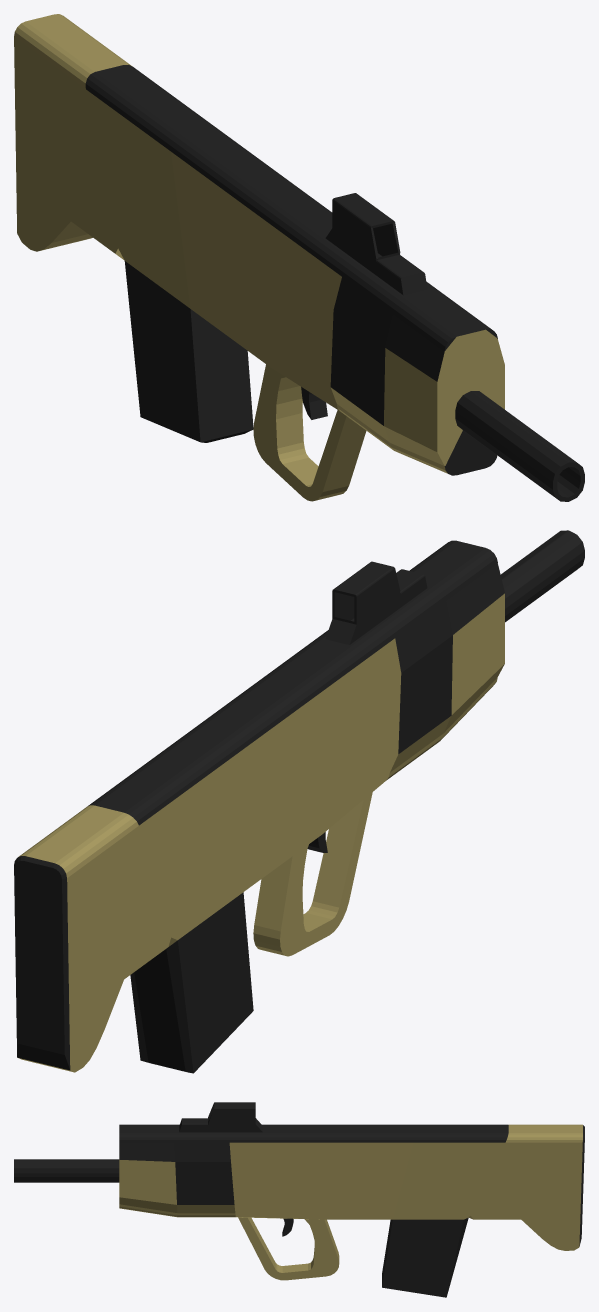
File: BullpopRifle.fbx
3 views of the same model, one above another, from view 1: azimuth 30°, elevation 25°; view 2: azimuth 150°, elevation 25°; view 3: azimuth 270°, elevation 25° (orthographic). The views are drawn at different scales.
Parts seen in each view (by area): view 1: Bullpop Rifle; view 2: Bullpop Rifle; view 3: Bullpop Rifle.
Part boxes in pixels (x1,y1,x2,y2): Bullpop Rifle: [14, 14, 584, 501]; Bullpop Rifle: [14, 530, 584, 1073]; Bullpop Rifle: [14, 1102, 584, 1297].
Bounding box in the file's own units: 88.36 × 433 × 1200.
